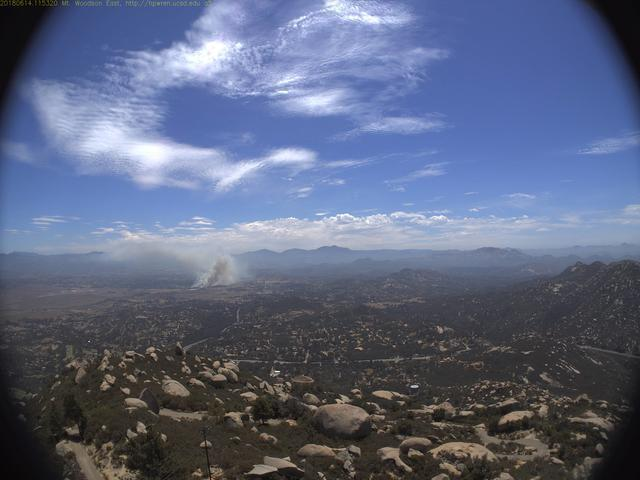Smoke: (109, 231, 247, 293)
